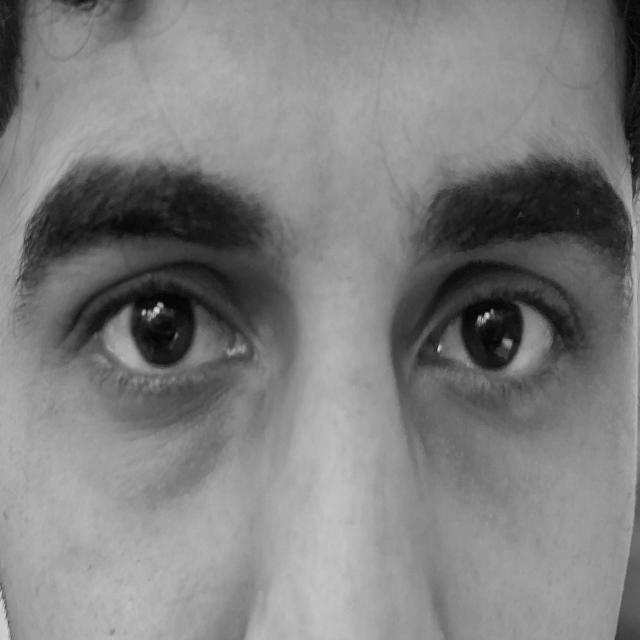real: (32, 128, 626, 485)
